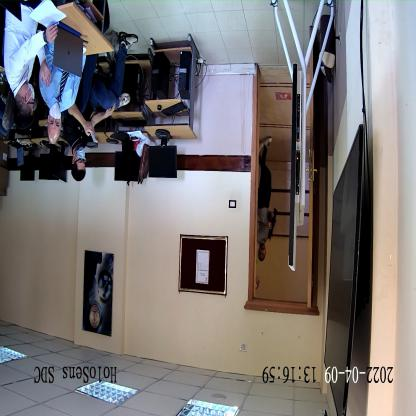handgun: (267, 205, 278, 242)
